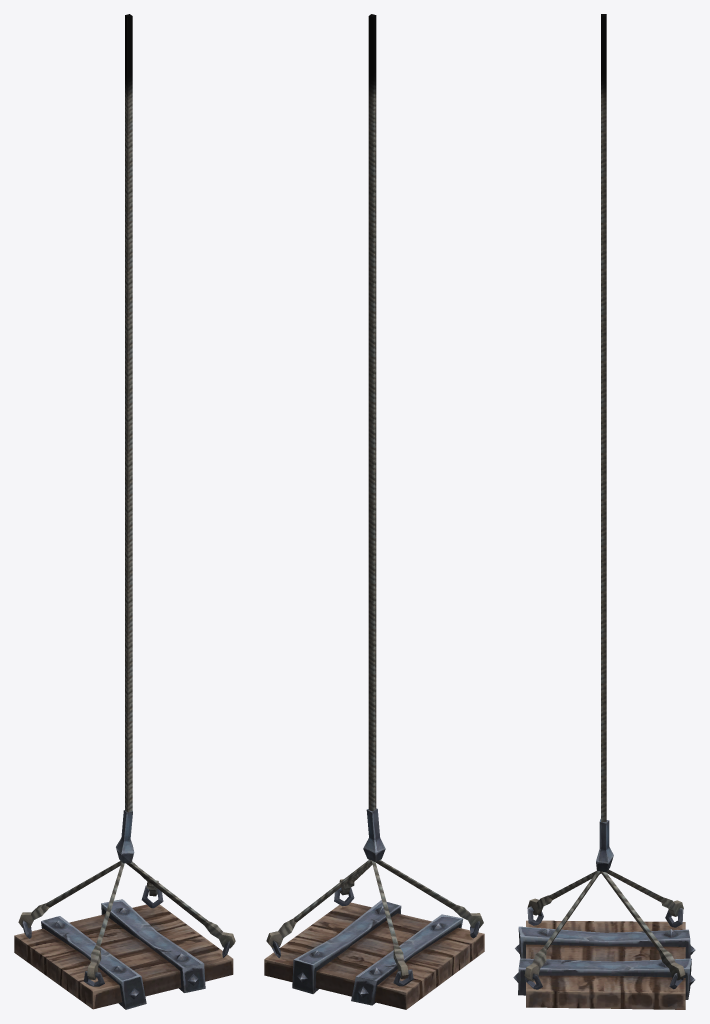
File: mine_elevator01.fbx
3 renders of one model, left to right at view 1: azimuth 30°, elevation 25°; view 2: azimuth 150°, elevation 25°; view 3: azimuth 270°, elevation 25°, orthographic.
Visible parts, largest first — view 1: obj1; view 2: obj1; view 3: obj1.
Part boxes in pixels (<box>): obj1: <box>14,14,235,1009</box>; obj1: <box>264,14,484,1009</box>; obj1: <box>513,14,695,1009</box>.
Size of the model in its own units: 3.72 by 23.06 by 3.95.
